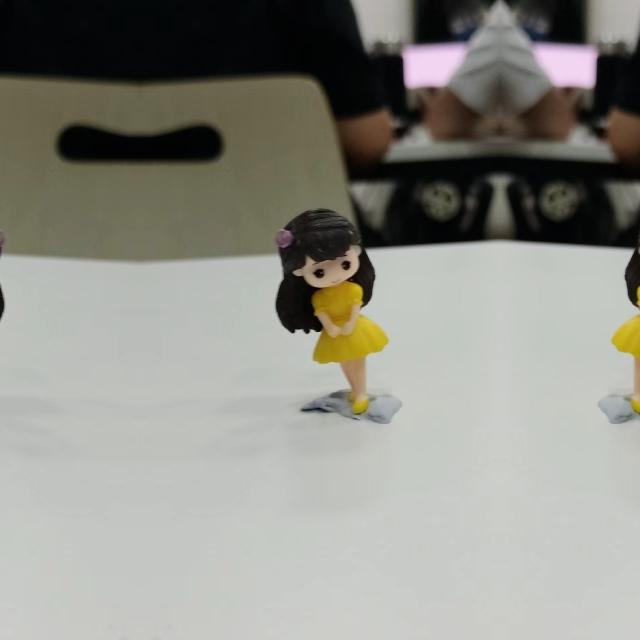woman head: (280, 200, 362, 292), (638, 199, 640, 292)
